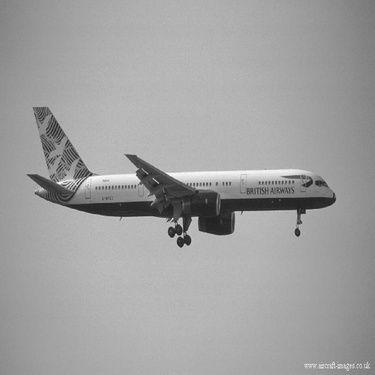airplane: (26, 101, 344, 251)
